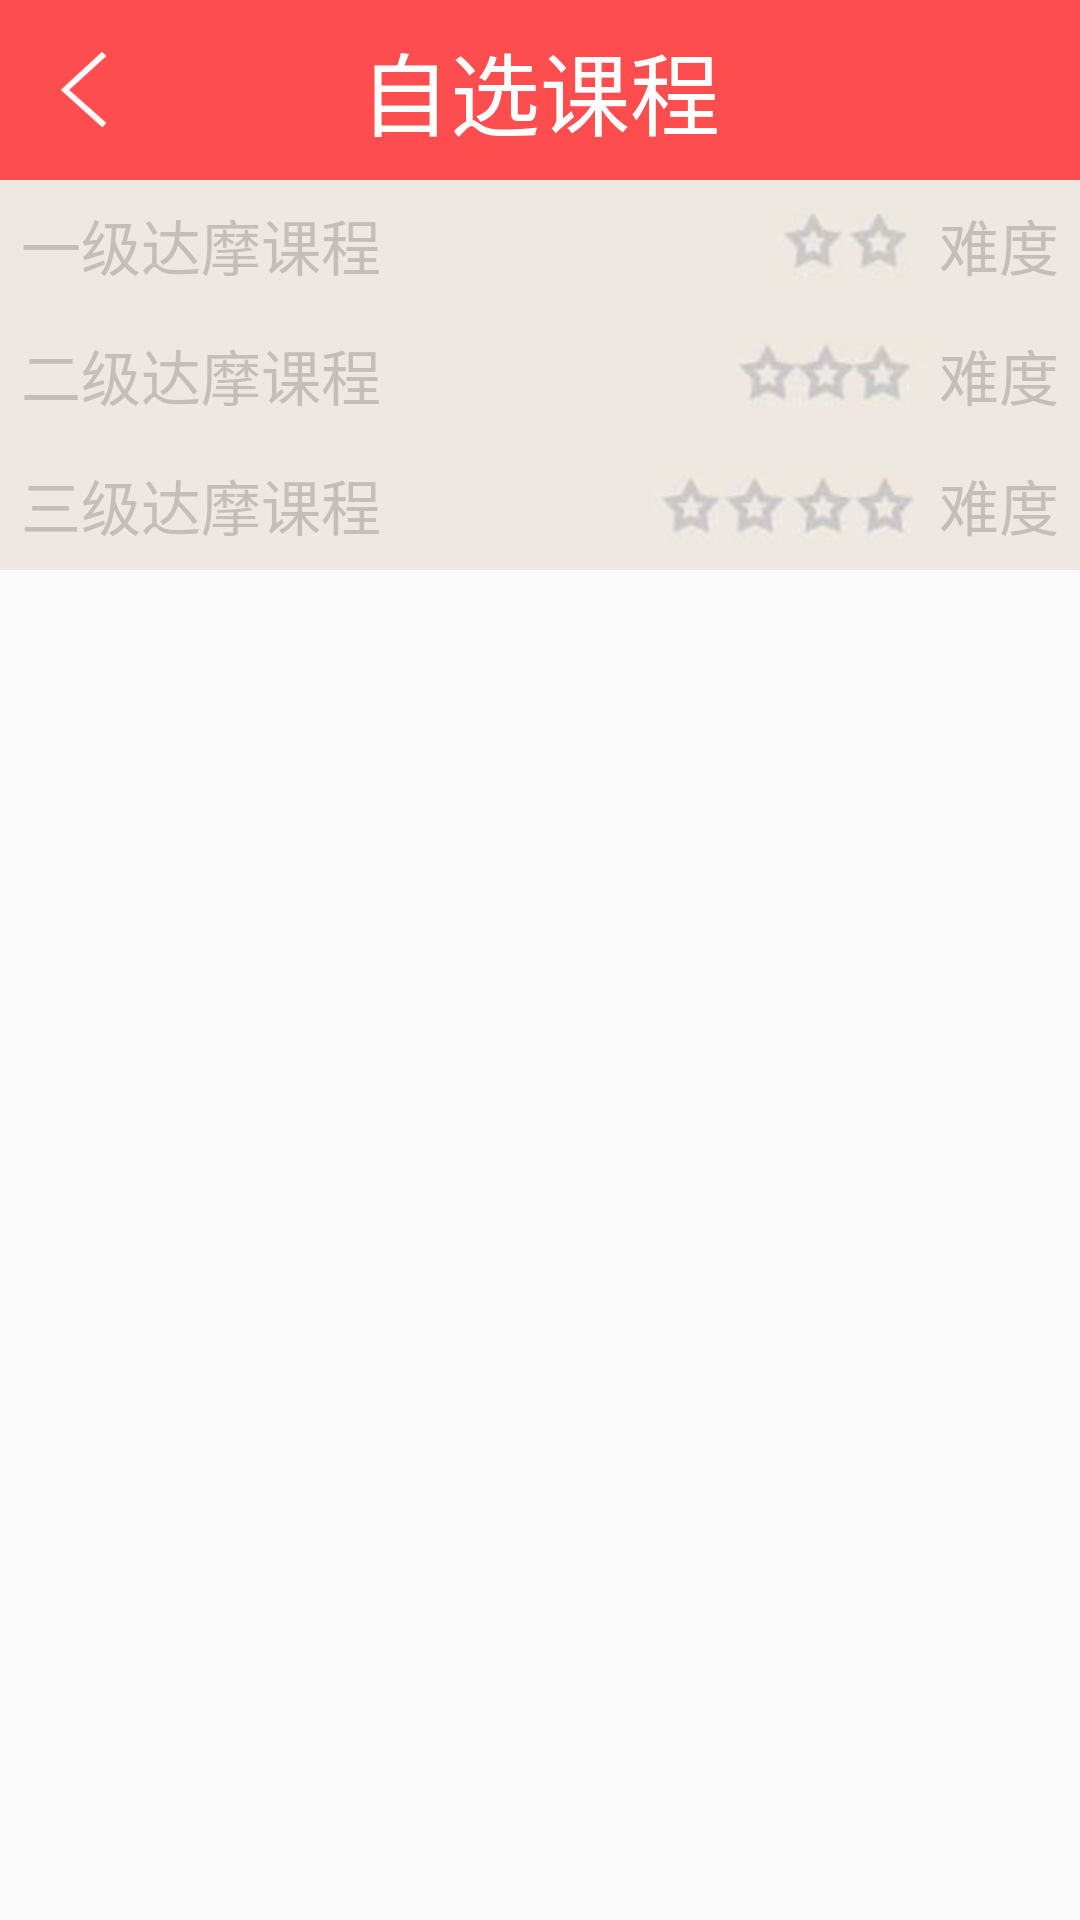

Where icons sit on this 1080px x 1920px app screen, as (x1=x1, y1=y1, x2=x2, y2=y2):
demo back: (x1=61, y1=52, x2=107, y2=127)
select list 2star: (x1=787, y1=215, x2=905, y2=266)
select list 3star: (x1=742, y1=347, x2=909, y2=398)
select list 4star: (x1=665, y1=480, x2=911, y2=531)
